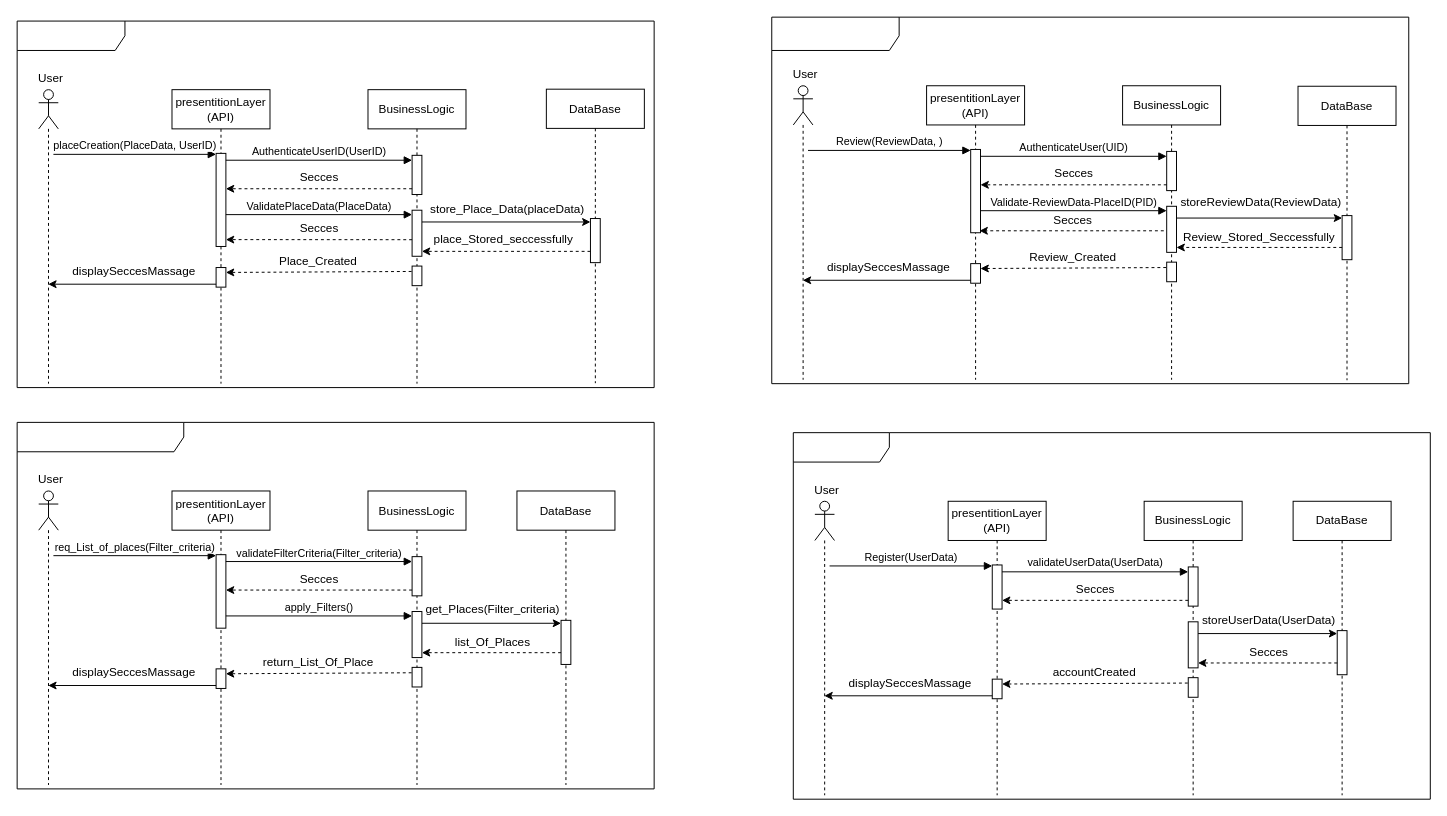
This 1447x816 diagram has some shape labels left out. Here are the shapes that lost their labels. From the top down, the box of each, then its label:
(16, 20, 654, 388): PlaceCreation
(771, 16, 1409, 384): Review Submission
(16, 421, 654, 789): Fetching A List OF Place
(792, 432, 1430, 799): Register
